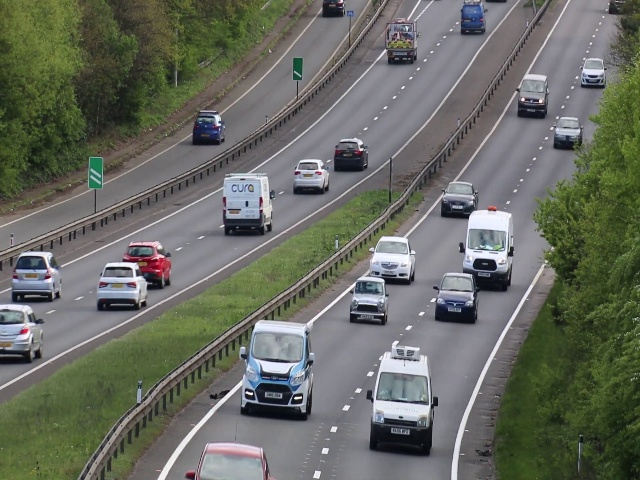car: (241, 323, 313, 422), (369, 350, 435, 453), (462, 212, 514, 290), (220, 171, 275, 233), (94, 261, 147, 314), (12, 250, 63, 304), (1, 304, 42, 367), (123, 240, 173, 289), (438, 269, 478, 326), (350, 274, 387, 326), (370, 235, 414, 278), (384, 16, 420, 65), (518, 69, 550, 123), (439, 179, 478, 216), (294, 153, 329, 193), (332, 139, 370, 172), (193, 109, 226, 144), (555, 116, 581, 152), (578, 56, 607, 88), (461, 1, 486, 35), (324, 1, 345, 18)
